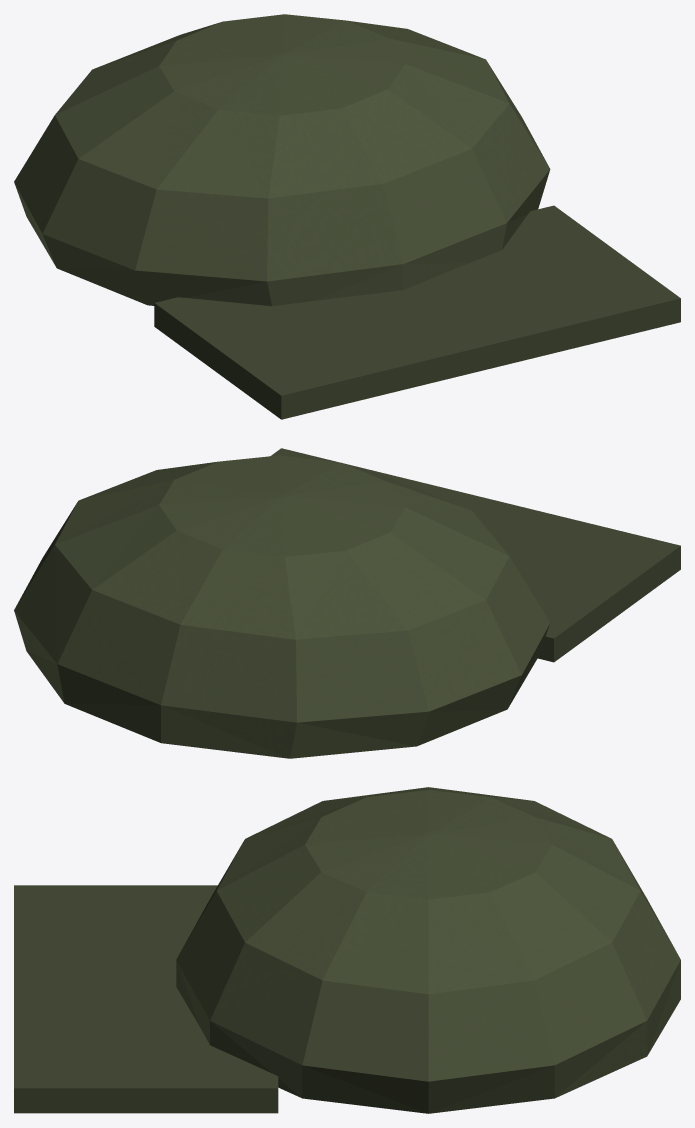
The model's file is cap.glb.
3 renders of one model, top to bottom at view 1: azimuth 30°, elevation 25°; view 2: azimuth 150°, elevation 25°; view 3: azimuth 270°, elevation 25°, orthographic. The views are drawn at different scales.
Visible parts, largest first — view 1: Ball Cap.002; view 2: Ball Cap.002; view 3: Ball Cap.002.
Part boxes in pixels (<box>): Ball Cap.002: <box>14,14,680,419</box>; Ball Cap.002: <box>14,448,680,758</box>; Ball Cap.002: <box>14,787,680,1113</box>.
Bounding box in the file's own units: 0.6451 × 0.2183 × 0.7459.
Materials: 2 (1 with a texture image).
